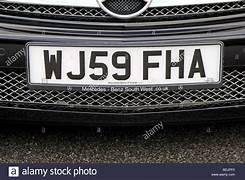number_plate: (29, 45, 219, 84)
